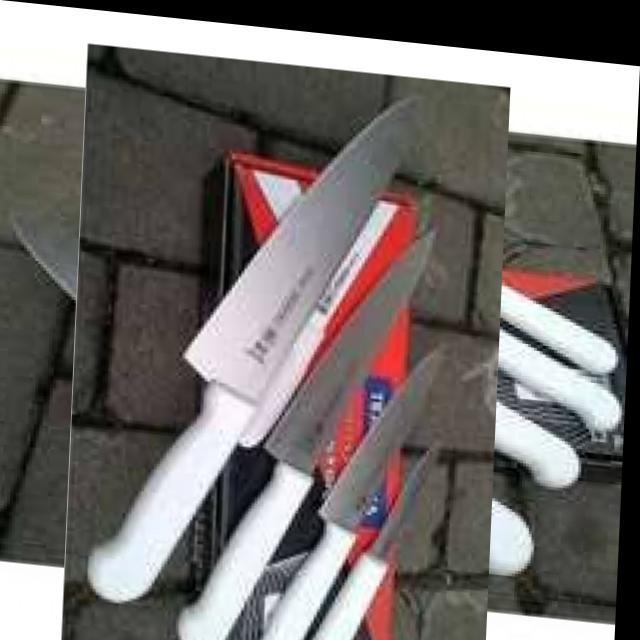knife: (86, 90, 422, 613), (176, 222, 441, 640), (261, 344, 444, 640)
